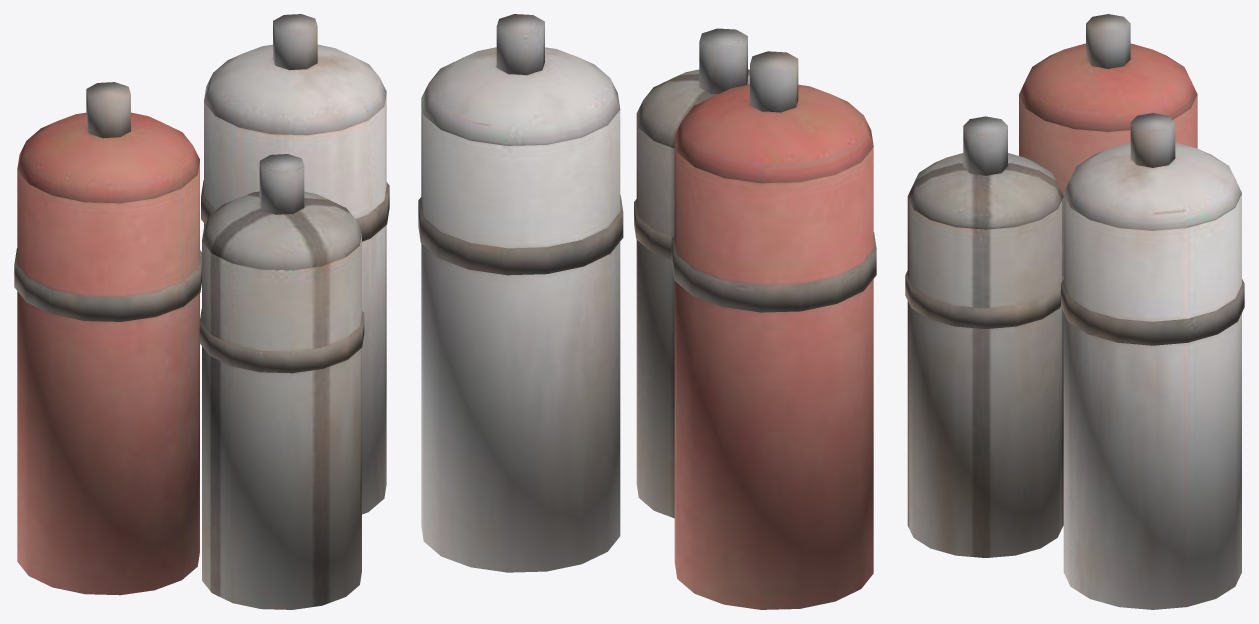
File: barrels.glb
3 renders of one model, left to right at view 1: azimuth 30°, elevation 25°; view 2: azimuth 150°, elevation 25°; view 3: azimuth 270°, elevation 25°, orthographic. The views are drawn at different scales.
Visible parts, largest first — view 1: barrels; view 2: barrels; view 3: barrels.
Boxes of the visible parts, x1=… form: barrels: x1=14, y1=14, x2=389, y2=609; barrels: x1=418, y1=14, x2=876, y2=609; barrels: x1=905, y1=14, x2=1244, y2=609.
Bounding box in the file's own units: 0.7496 × 0.89 × 0.609.
1 material, 1 textured.
